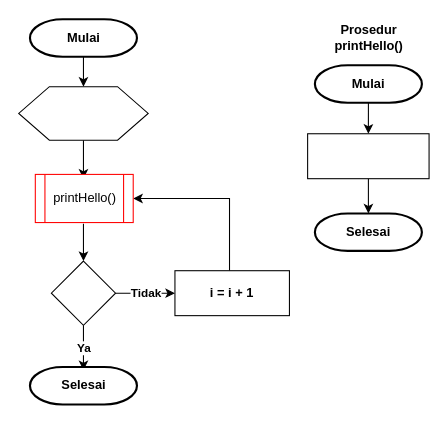
This 448x424 diagram has some shape labels left out. The box of each missing label's shape, as (x1, y1, x2, y2) in pixels:
i = 5?: (50, 260, 116, 325)
i=1: (18, 86, 148, 140)
Tampilkan "Hello World!": (307, 133, 429, 179)
